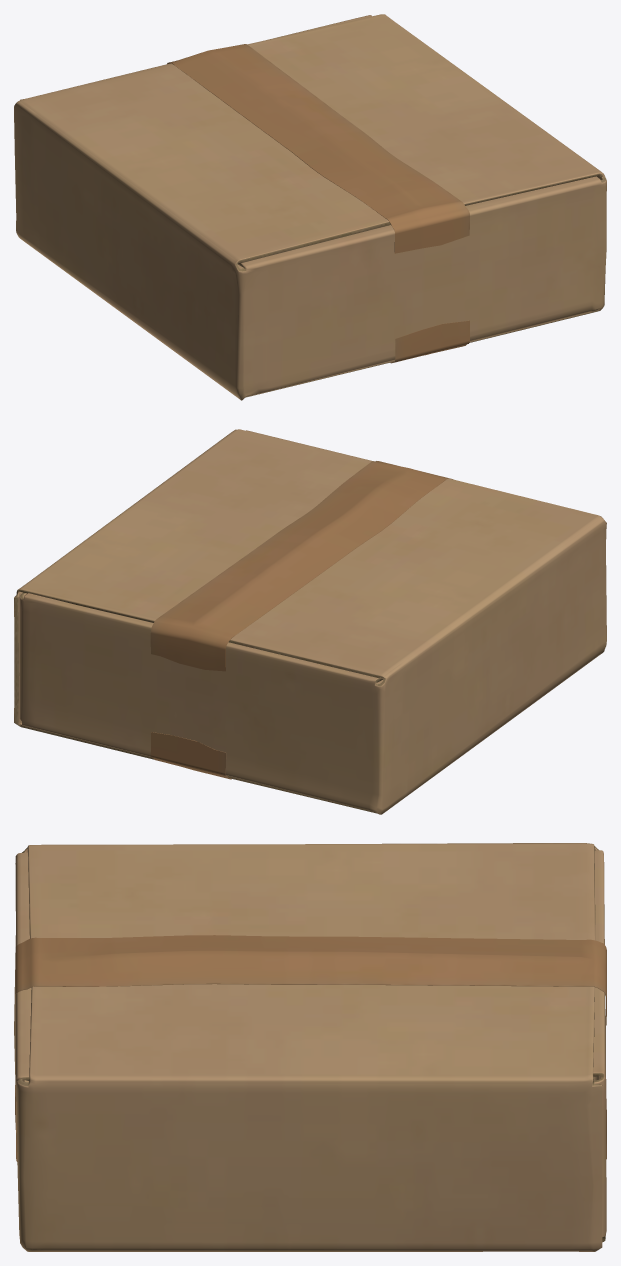
The model's file is box_flat.glb.
3 renders of one model, top to bottom at view 1: azimuth 30°, elevation 25°; view 2: azimuth 150°, elevation 25°; view 3: azimuth 270°, elevation 25°, orthographic. The views are drawn at different scales.
Visible parts, largest first — view 1: box_flat_mesh; view 2: box_flat_mesh; view 3: box_flat_mesh.
Boxes of the visible parts, x1,y1,x2,y2 form: box_flat_mesh: (14,14,606,400); box_flat_mesh: (14,429,606,814); box_flat_mesh: (14,843,606,1251).
Bounding box in the file's own units: 0.1501 × 0.0579 × 0.16.
Materials: 3 (3 with a texture image).
